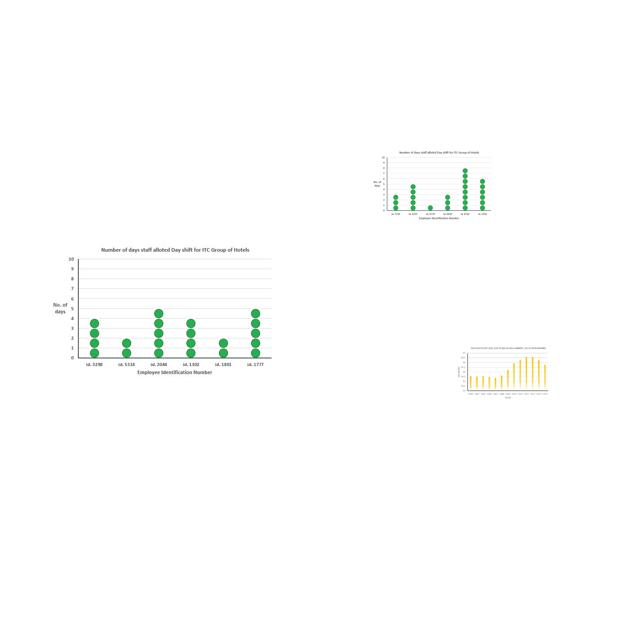Graph: (48, 245, 276, 379), (370, 148, 493, 223), (455, 345, 550, 400)
